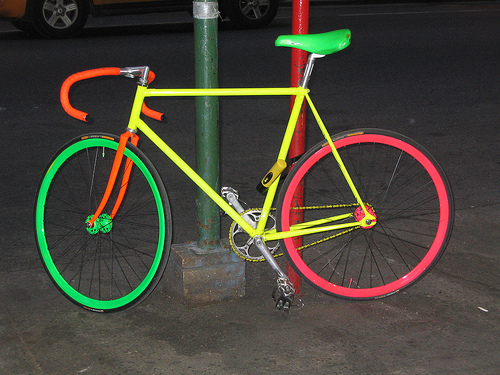bicycle: (29, 20, 476, 322)
